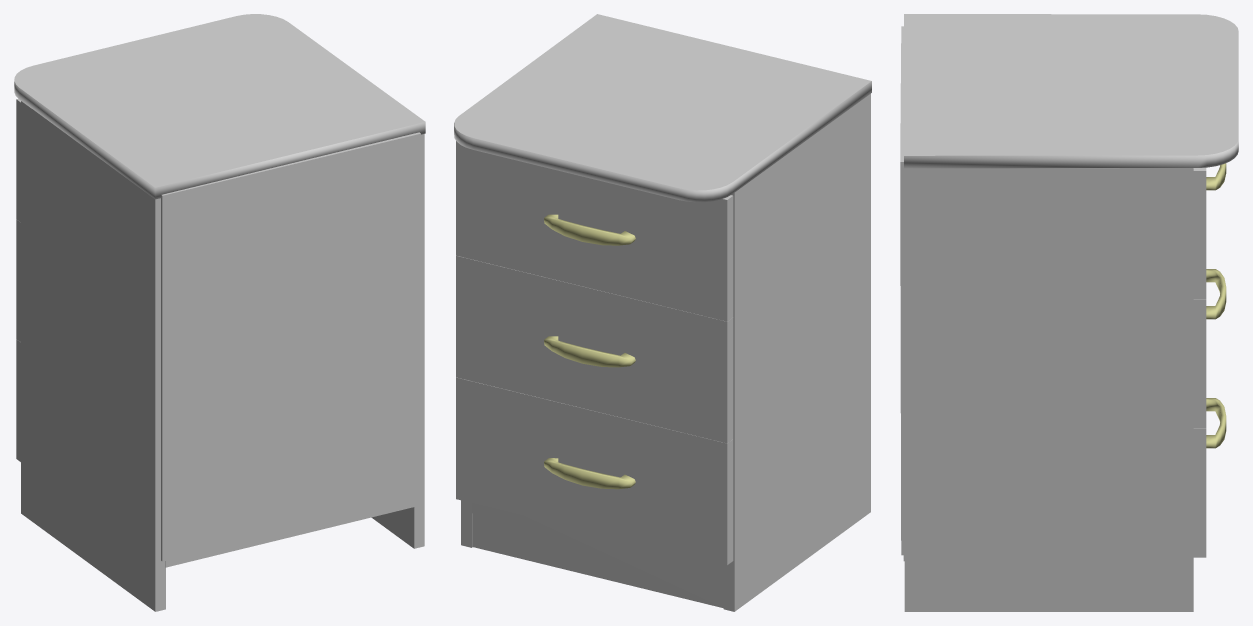
The model's file is Static_Dresser.fbx.
3 renders of one model, left to right at view 1: azimuth 30°, elevation 25°; view 2: azimuth 150°, elevation 25°; view 3: azimuth 270°, elevation 25°, orthographic. The views are drawn at different scales.
Parts seen in each view (by area): view 1: Dresser_Static; view 2: Dresser_Static; view 3: Dresser_Static.
Boxes of the visible parts, bbox=[...] form: Dresser_Static: bbox=[14, 14, 425, 611]; Dresser_Static: bbox=[454, 14, 871, 611]; Dresser_Static: bbox=[900, 14, 1238, 611].
Size of the model in its own units: 87.1 by 131 by 87.87.
